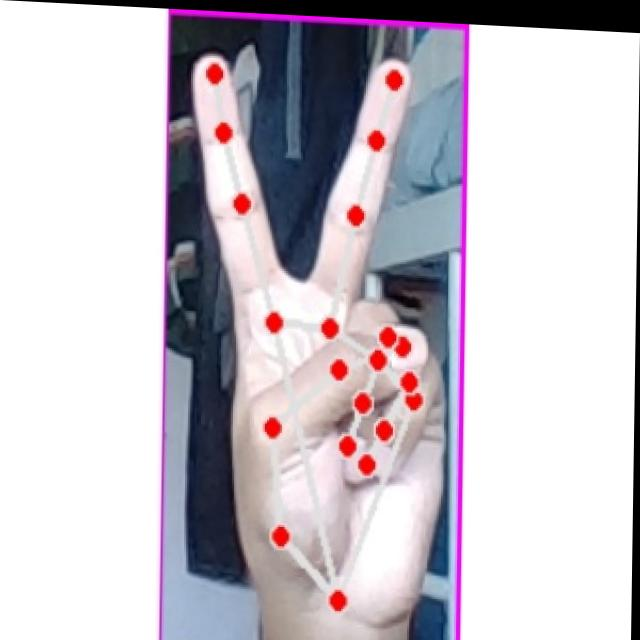V: (192, 37, 452, 612)
